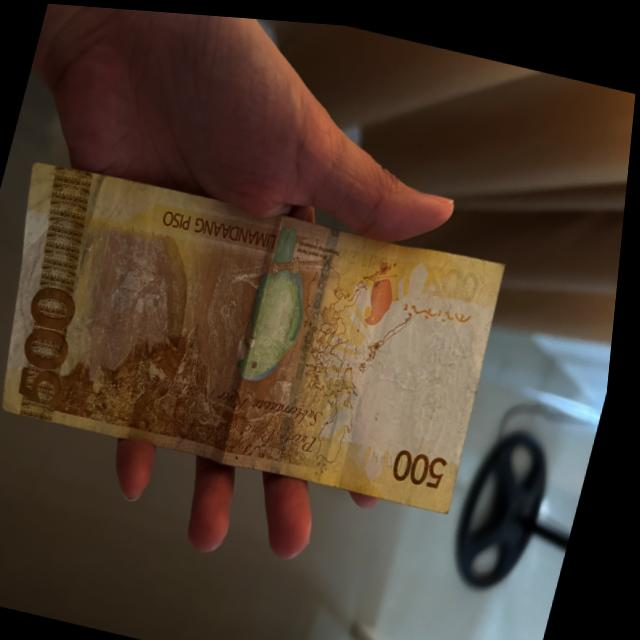see_through_mark: (394, 277, 488, 333)
value_watermark: (445, 338, 472, 384)
watermark: (358, 268, 497, 456)
